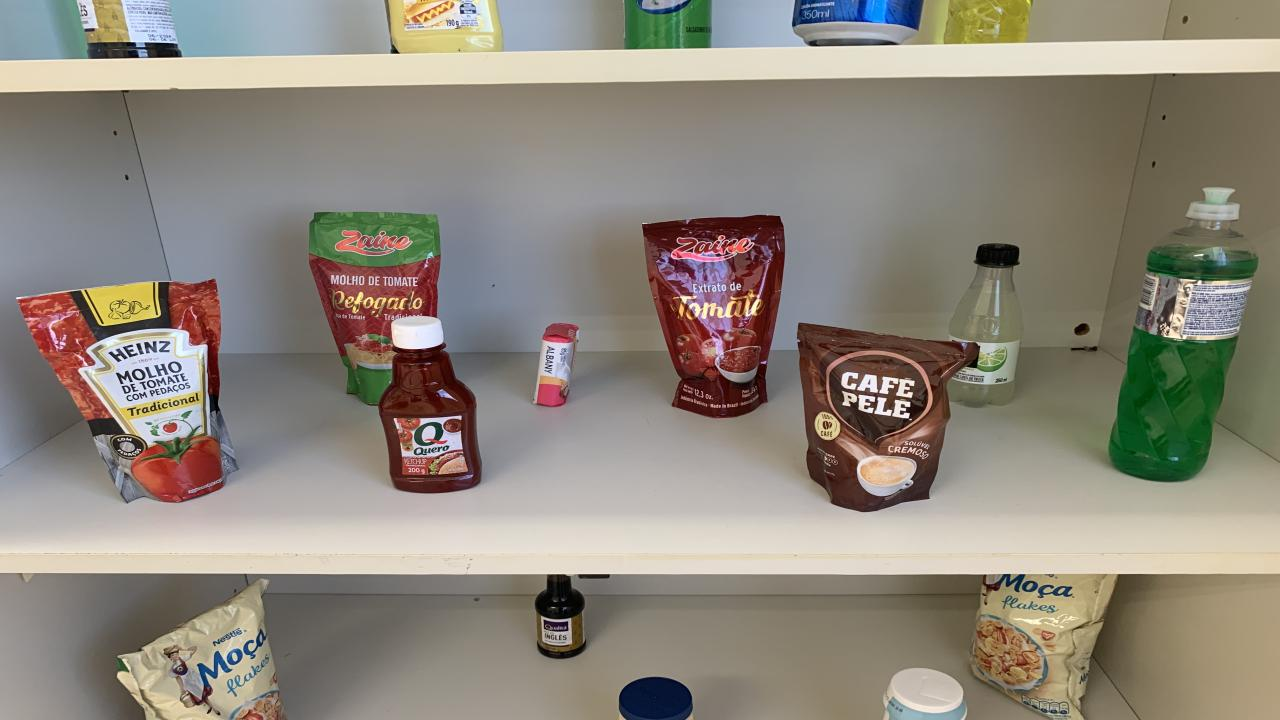Cleaner-Cleanup_Items: (879, 669, 973, 720)
Coffee-Pantry_Items: (799, 325, 981, 513)
Detergent-Cleanup_Items: (1109, 187, 1259, 484), (945, 0, 1035, 46)
English_Sauce-Pantry_Items: (50, 0, 183, 60), (528, 577, 590, 661)
Flakes-Snacks: (110, 579, 284, 720), (969, 575, 1120, 720)
Ketchup-Pantry_Items: (377, 313, 485, 494)
Mustard-Pantry_Items: (380, 0, 505, 56)
Pringles-Snacks: (623, 0, 712, 49)
Soap-Cleanup_Items: (532, 323, 580, 408)
Soda-Drinks: (952, 244, 1029, 408)
Tomato_Sauce-Pantry_Items: (18, 282, 238, 505), (642, 216, 787, 420), (305, 214, 441, 408)
Tonic-Drinks: (792, 1, 927, 47)
